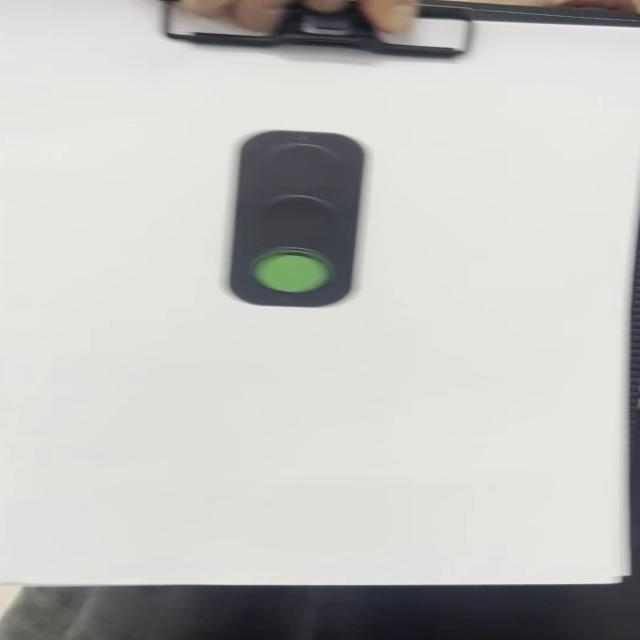green: (228, 131, 366, 309)
